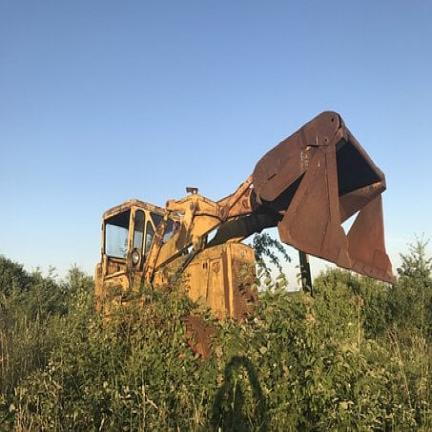karat: (96, 111, 394, 317)
